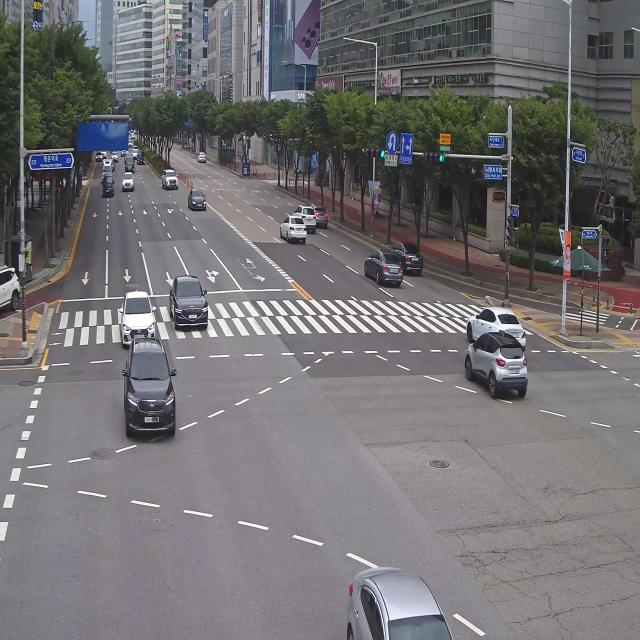Car: (335, 552, 466, 640), (121, 330, 186, 458), (460, 323, 531, 422), (163, 258, 224, 346), (463, 290, 528, 364), (112, 282, 161, 356), (358, 242, 410, 307), (0, 252, 26, 328), (384, 236, 424, 278), (278, 211, 310, 252), (183, 183, 213, 222), (307, 198, 332, 231), (157, 168, 182, 192), (296, 200, 314, 233), (121, 168, 138, 200), (124, 156, 134, 175), (197, 149, 207, 164), (131, 149, 139, 161), (110, 152, 119, 162), (95, 152, 103, 162), (101, 149, 107, 161), (111, 160, 116, 172), (120, 148, 127, 156), (132, 145, 140, 151), (128, 140, 134, 148)
Truck: (98, 169, 118, 199), (102, 156, 112, 178), (136, 148, 146, 166)
